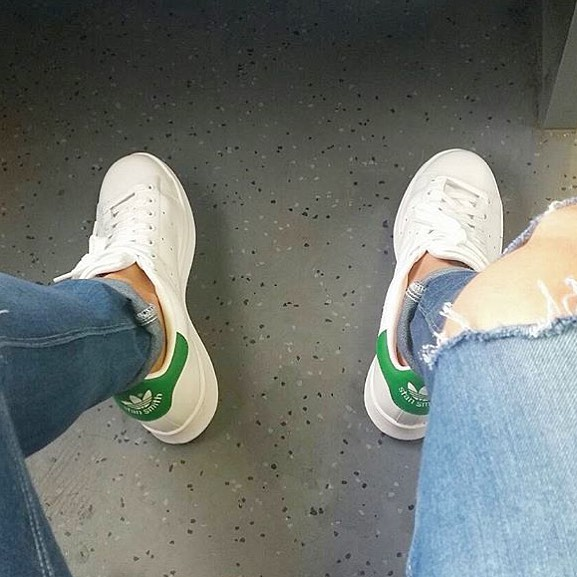sneaker: (43, 142, 240, 463), (348, 137, 529, 451)
